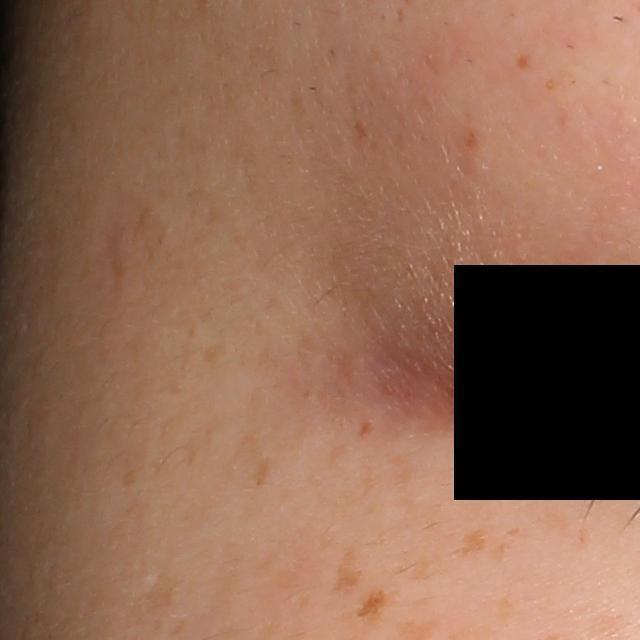melasma: (459, 521, 491, 561), (252, 454, 280, 493)
